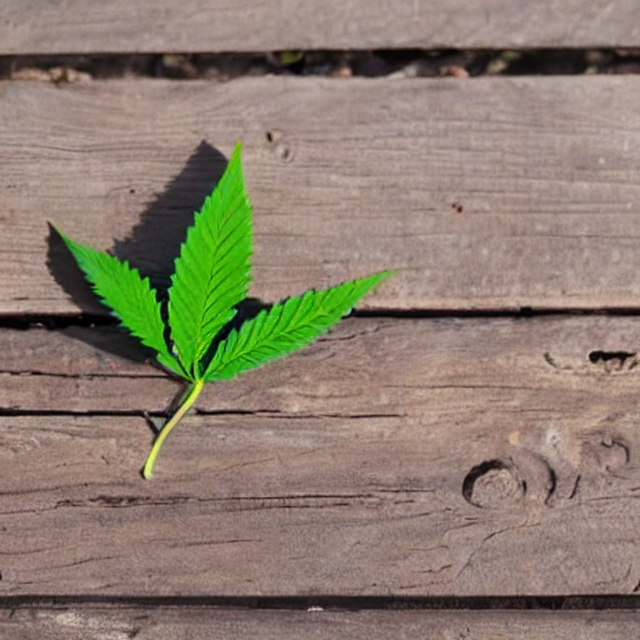Marijuana Leaf: (44, 138, 398, 480)
